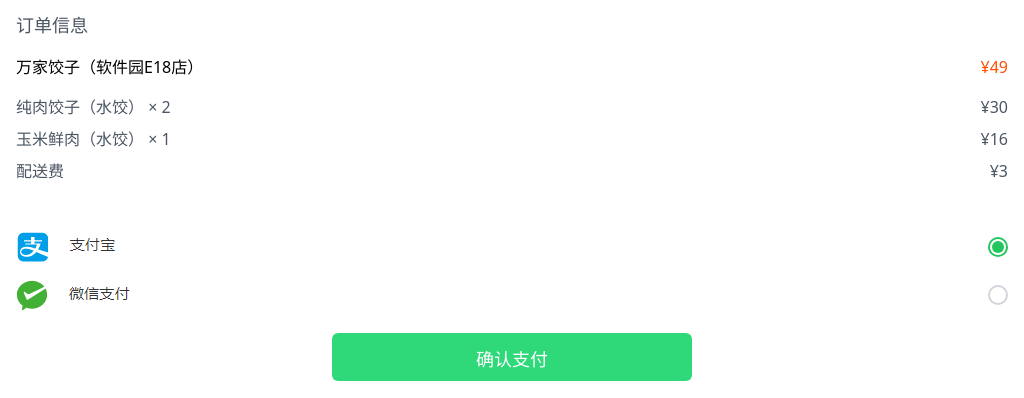
Test: PaymentCom.vue › 切换订单详情显示状态
Click the element with class "cursor-pointer" showing "万家饺子（软件园E18店） ¥49": (110, 67) [16, 55, 1008, 79]
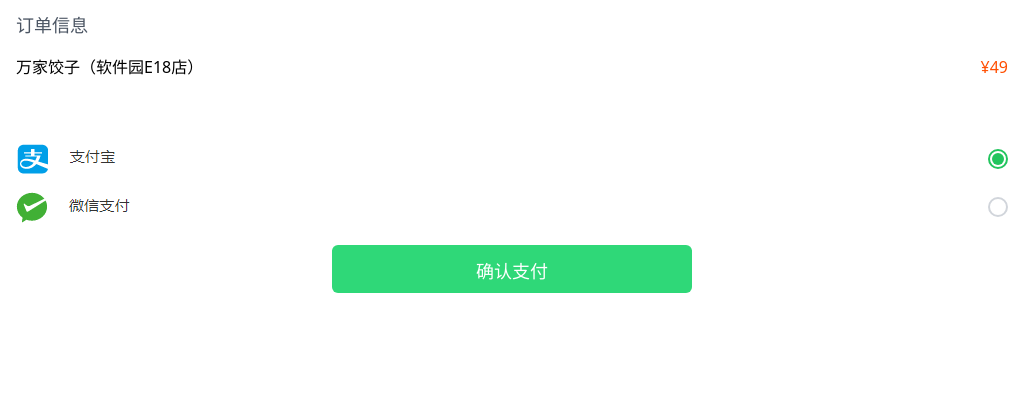
Result: the element with class "space-y-2" is gone
